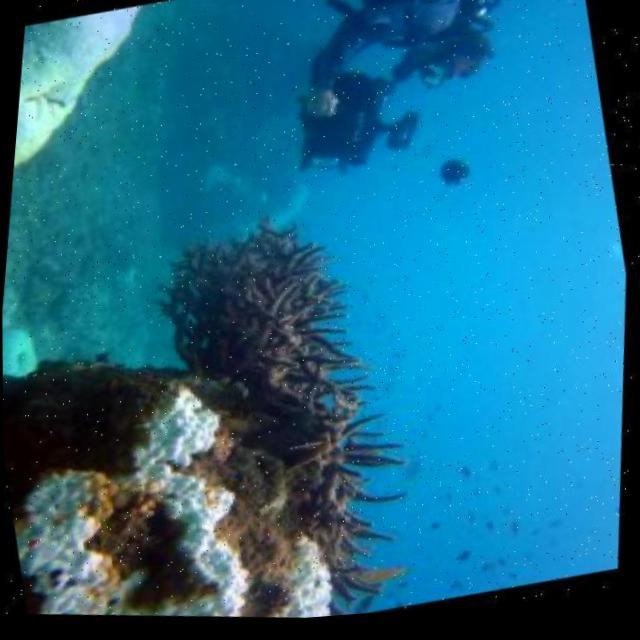Bleached Coral: (2, 364, 276, 635), (9, 0, 219, 211), (261, 514, 356, 625)
